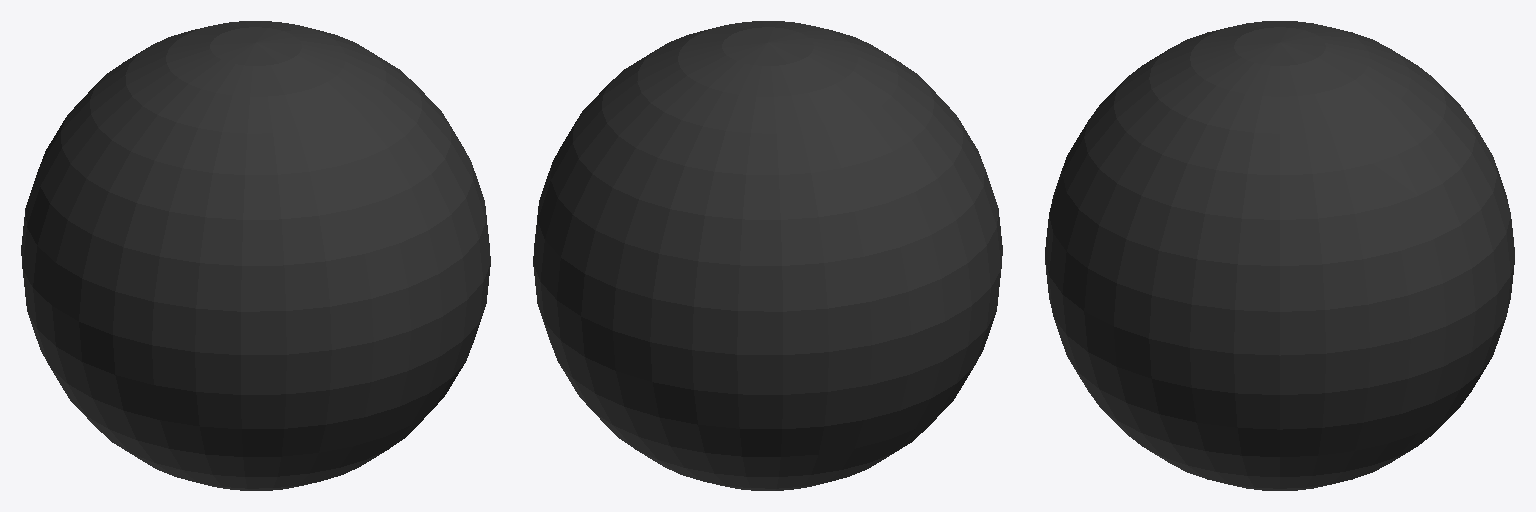
File: shell.obj
3 views of the same model, side by side, from view 1: azimuth 30°, elevation 25°; view 2: azimuth 150°, elevation 25°; view 3: azimuth 270°, elevation 25° (orthographic).
Parts seen in each view (by area): view 1: Sphere; view 2: Sphere; view 3: Sphere.
Part boxes in pixels (bbox=[...]): Sphere: bbox=[21, 21, 490, 490]; Sphere: bbox=[533, 21, 1002, 490]; Sphere: bbox=[1045, 21, 1514, 490].
Bounding box in the file's own units: 1.93 × 1.93 × 1.93.